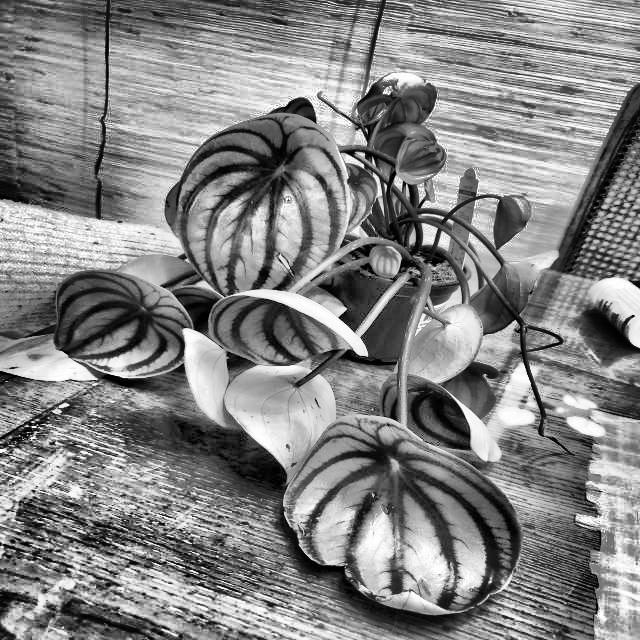plants: (155, 74, 532, 552)
